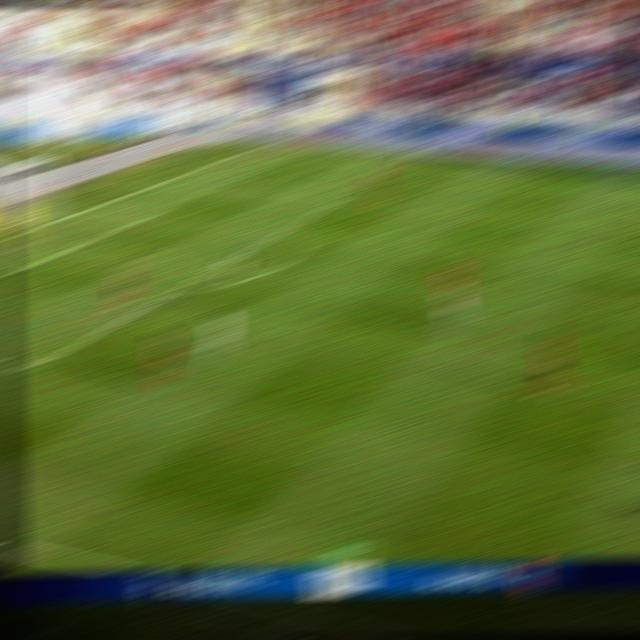bigarea_bottom_inner: (20, 356, 48, 376)
bigarea_top_inner: (332, 191, 354, 199)
bigarea_top_outter: (160, 176, 179, 178)
bottom_arc_area_intersection: (163, 285, 186, 293)
corner: (236, 148, 256, 150)
smallarea_top_inner: (141, 210, 164, 216)
smallarea_top_outter: (84, 201, 107, 209)
top_arc_area_intersection: (269, 225, 291, 232)
